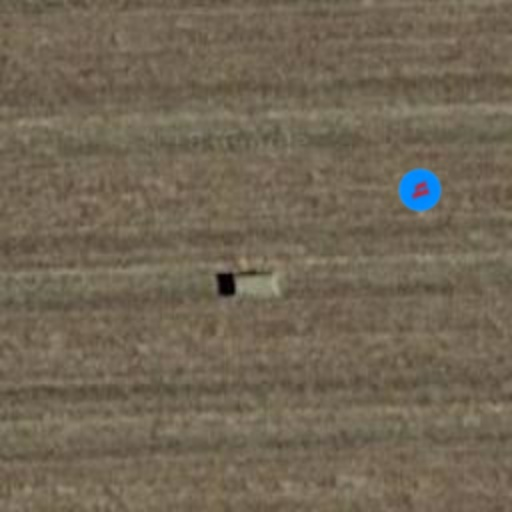circle: (392, 162, 448, 218)
